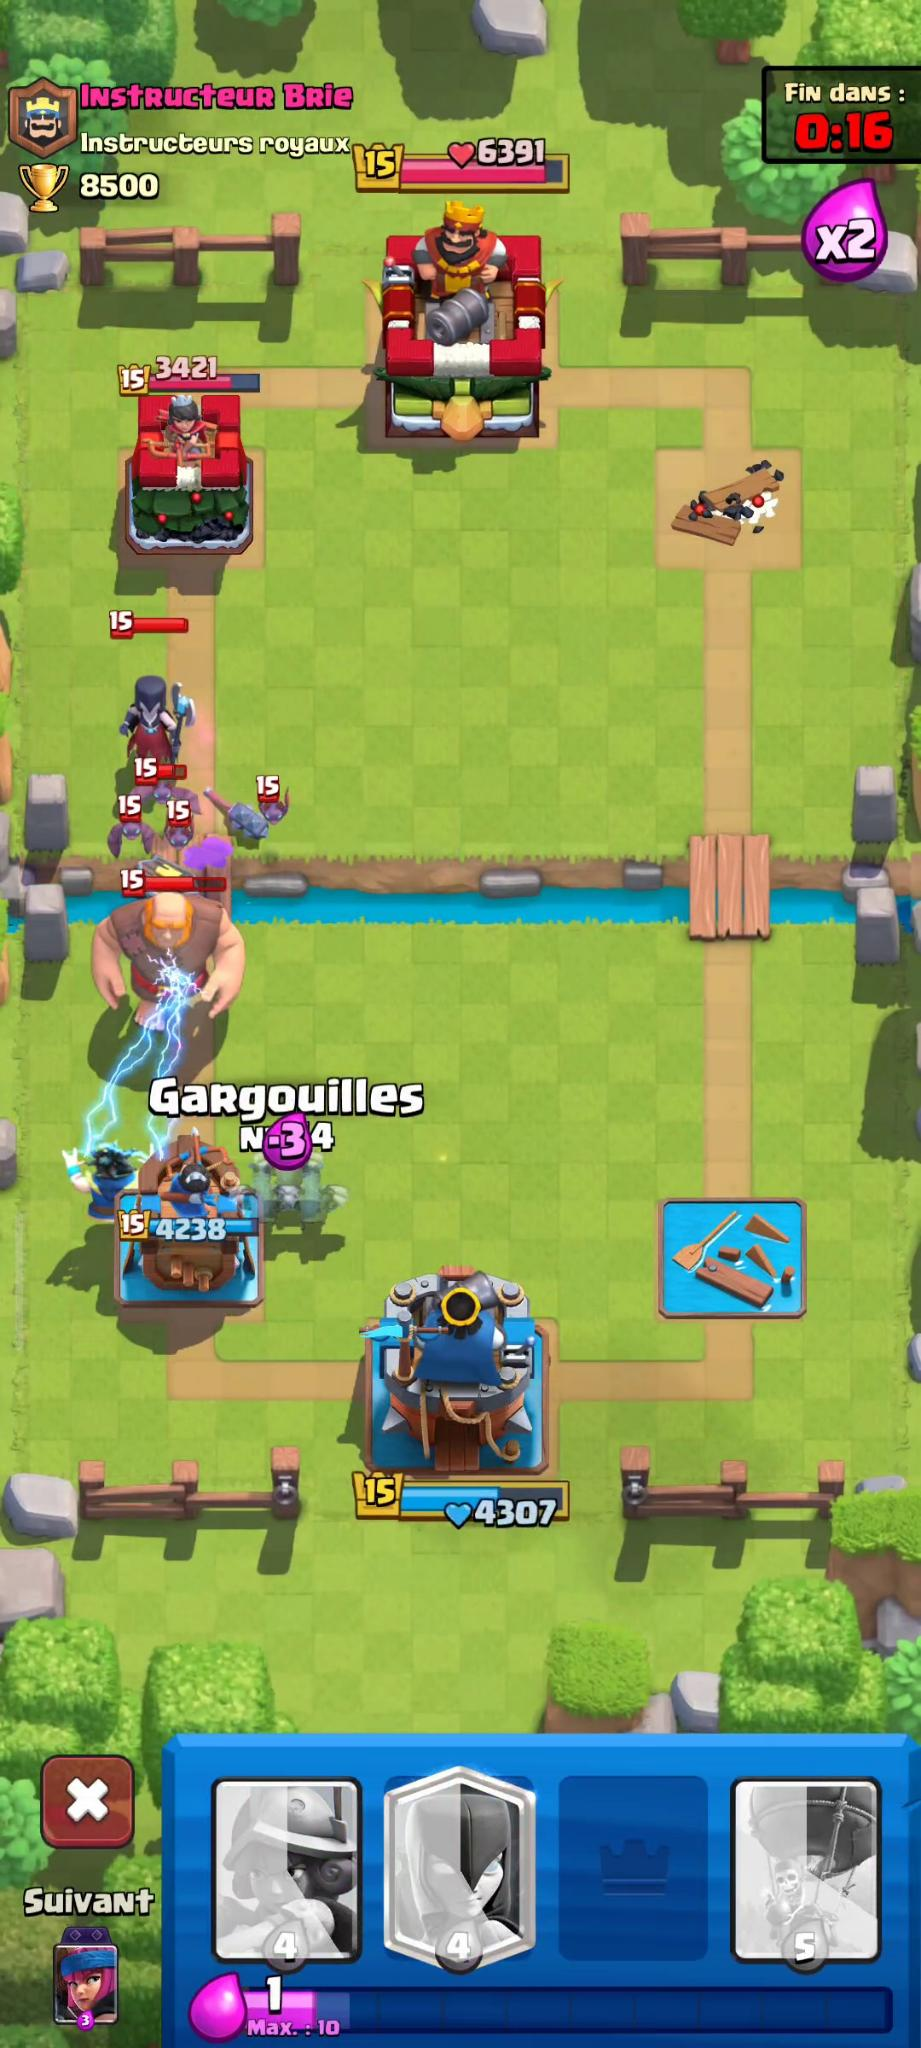bat: (116, 679, 210, 811), (142, 742, 191, 814), (157, 802, 210, 862), (259, 777, 299, 850), (106, 799, 157, 857), (133, 746, 174, 805)
gargouille: (282, 1152, 350, 1249), (253, 1109, 331, 1181), (222, 1157, 287, 1223)
geant: (80, 865, 268, 1058)
